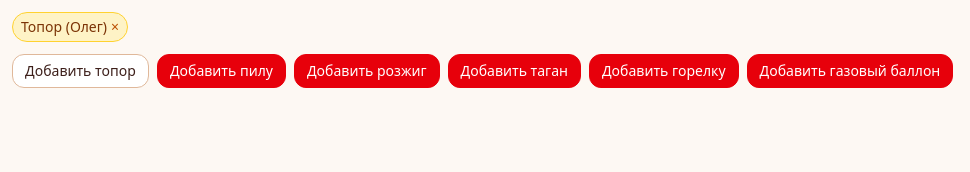
Scenario: секция «Костровое» › владелец убирает свою вещь крестиком сразу
Click the button with test id "route-cooking-remove-g1".
click(115, 27)  # box x1=111 y1=17 x2=119 y2=37
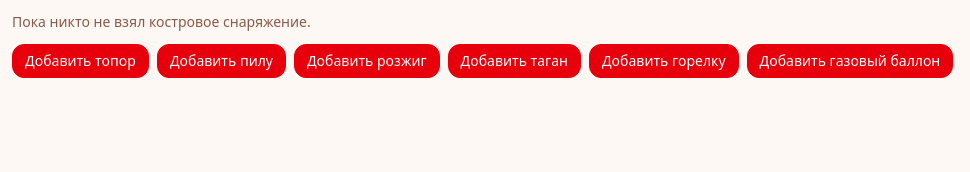
Now the text with test id "route-cooking-empty" shows "Пока никто не взял", box x1=12 y1=12 x2=311 y2=31
